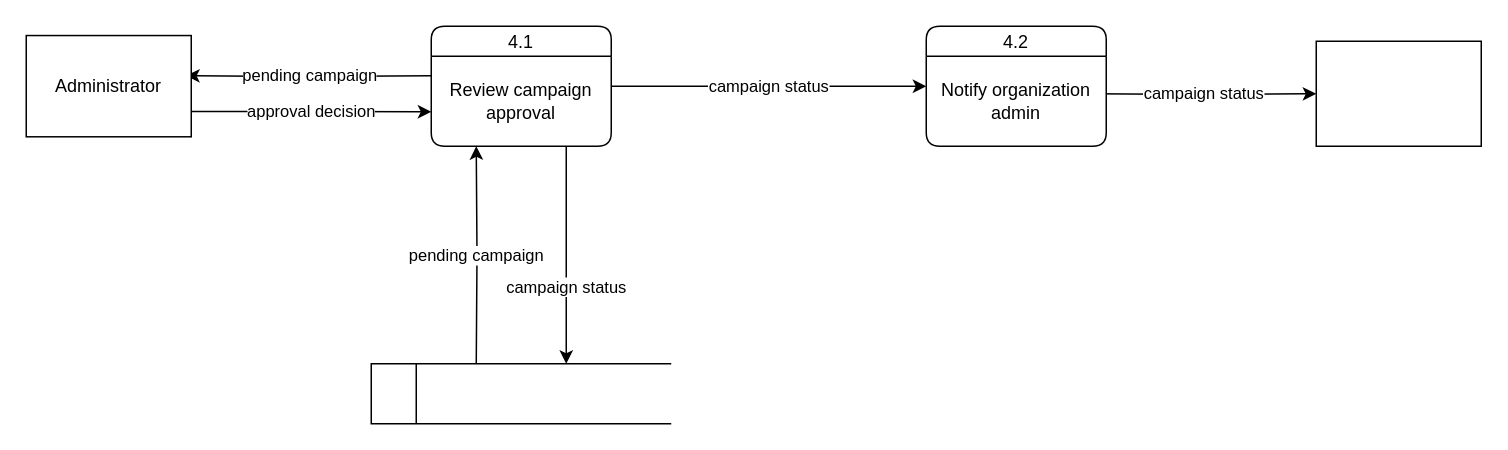
Image size: 1508x450. Some labels were removed from this diagram. The centre of each missing label's shape, as x and y in pixels:
"Campaign & Campaign Image" goes at [520,393].
"Organization Admin" goes at [1398,93].
